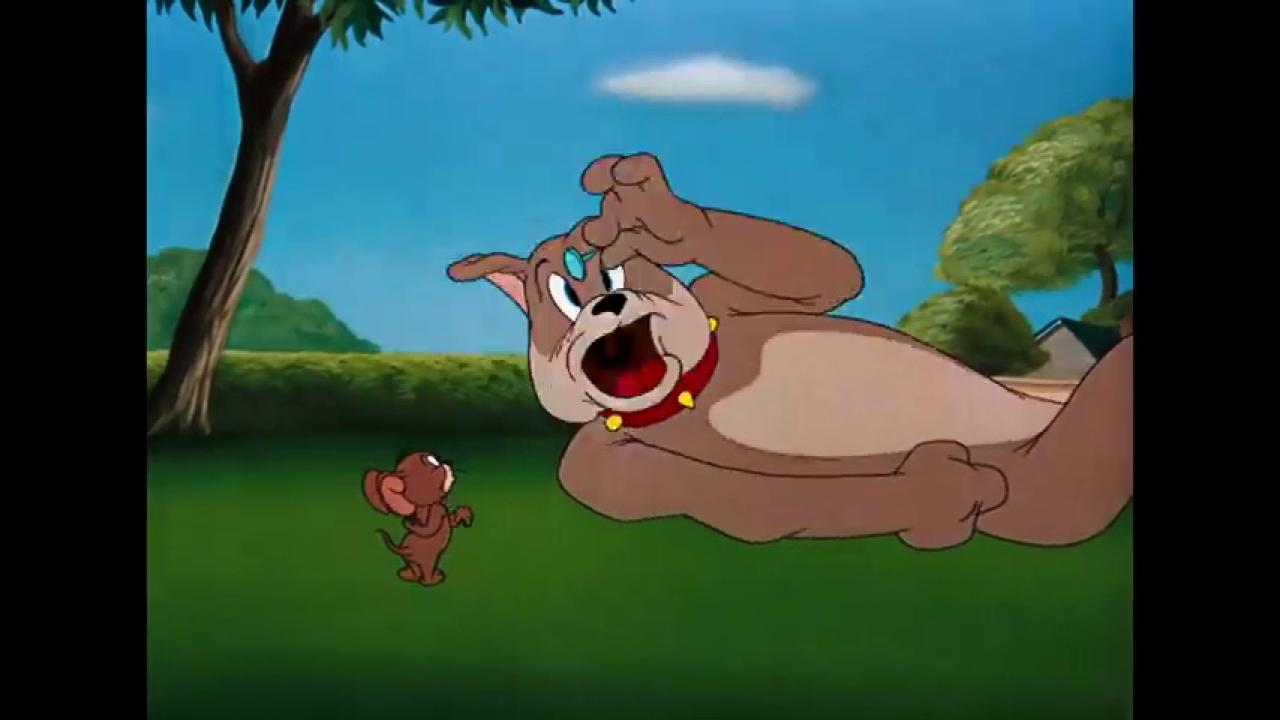Jerry: (361, 446, 476, 587)
